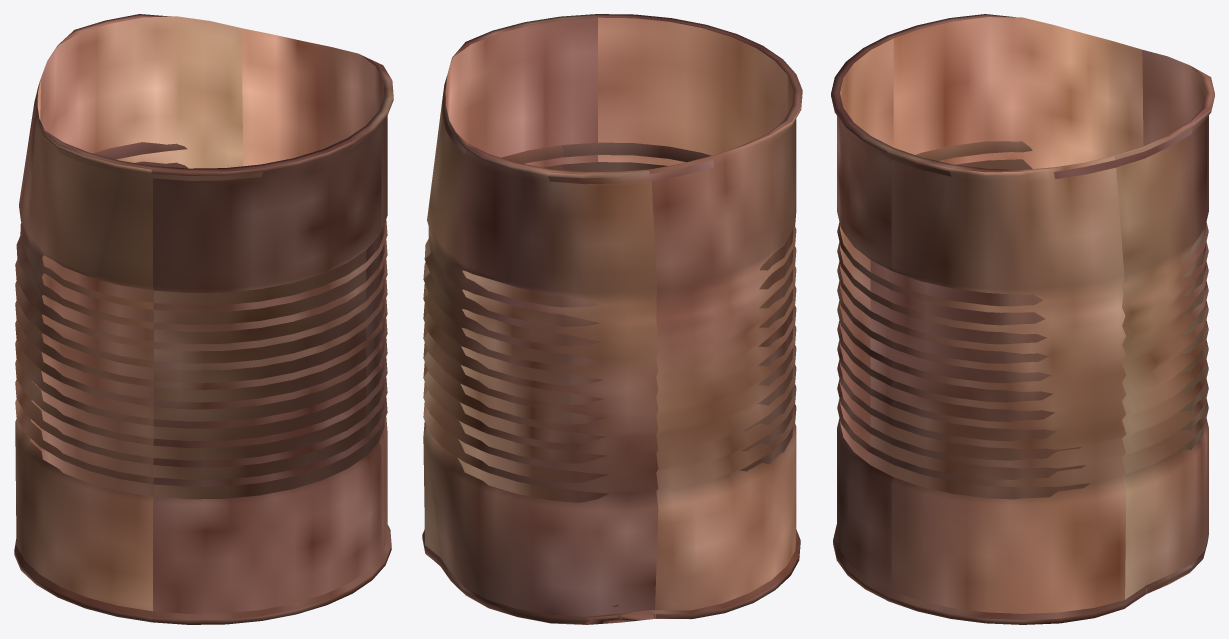
Rendered from Trash_TinCan.fbx.
The picture shows the model from 3 angles, left to right: view 1: azimuth 30°, elevation 25°; view 2: azimuth 150°, elevation 25°; view 3: azimuth 270°, elevation 25°; orthographic projection.
Visible parts, largest first — view 1: Rusty CAn.002; view 2: Rusty CAn.002; view 3: Rusty CAn.002.
Part boxes in pixels (x1=…): Rusty CAn.002: x1=14, y1=14, x2=393, y2=624; Rusty CAn.002: x1=422, y1=14, x2=802, y2=624; Rusty CAn.002: x1=831, y1=14, x2=1214, y2=624.
Size of the model in its own units: 204 by 268 by 207.
